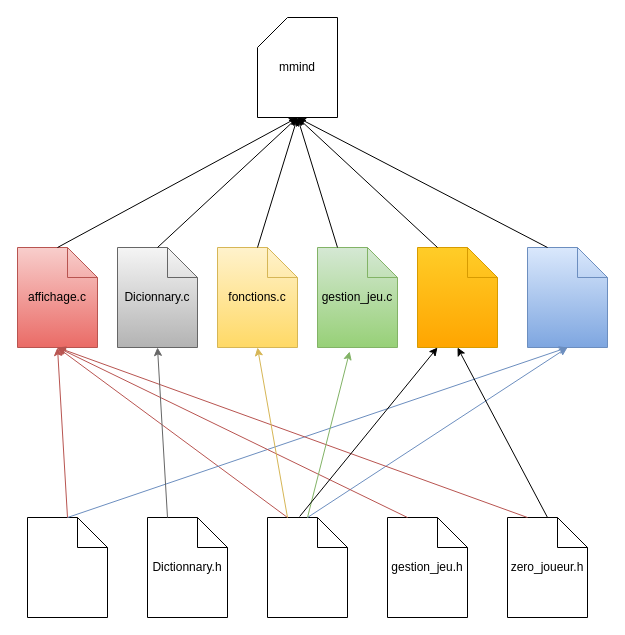
Some shapes in this 625 by 635 pixel diagram are drawn without their labels. Each missing label, with the box of its shape:
affichage.h: (26, 516, 108, 618)
fonctions.h: (266, 516, 348, 618)
main.c: (526, 246, 608, 348)
zero_joueur.c: (416, 246, 498, 348)
